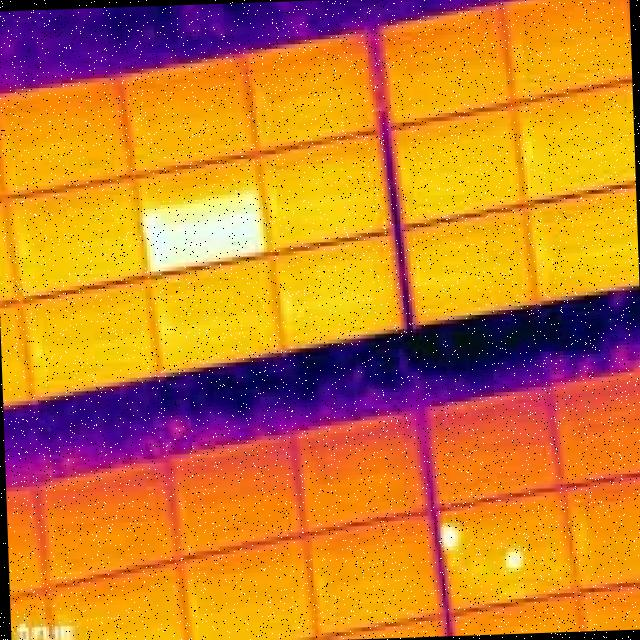Hotspot: (139, 194, 267, 272), (436, 522, 464, 554), (505, 552, 523, 568)
